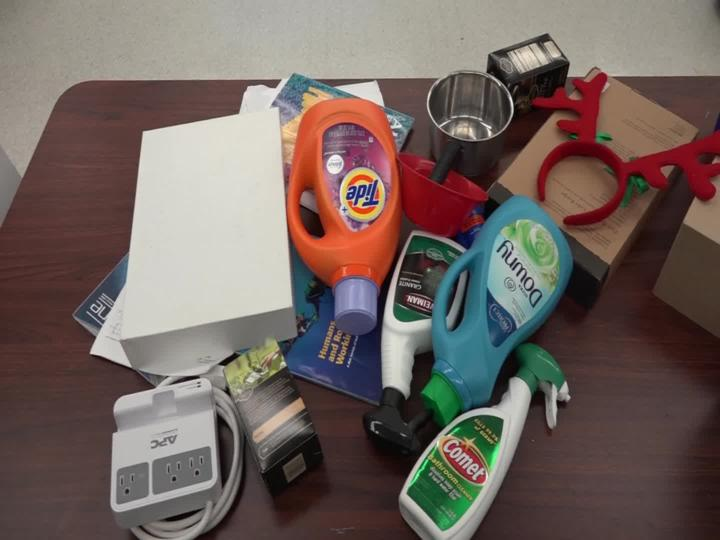tide: (267, 87, 414, 339)
